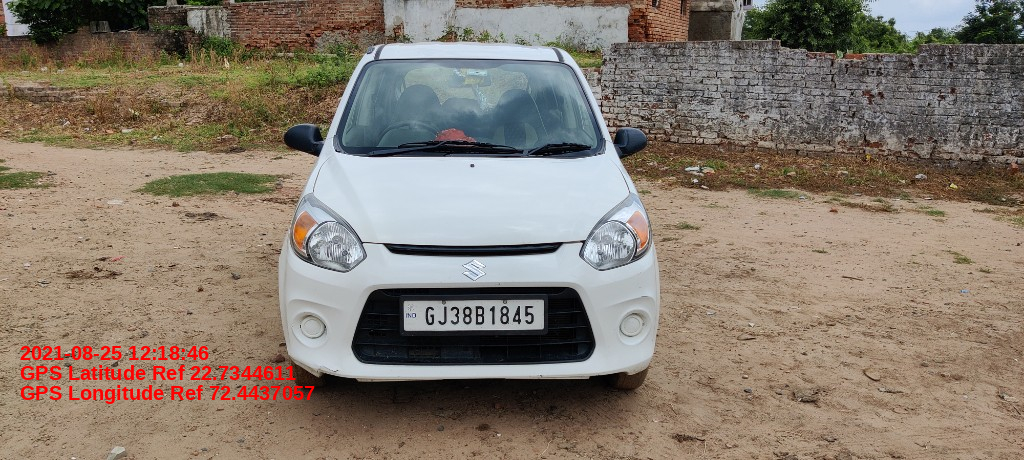Scratched: (313, 362, 340, 374), (639, 292, 651, 300), (491, 281, 504, 287), (537, 372, 546, 379)
